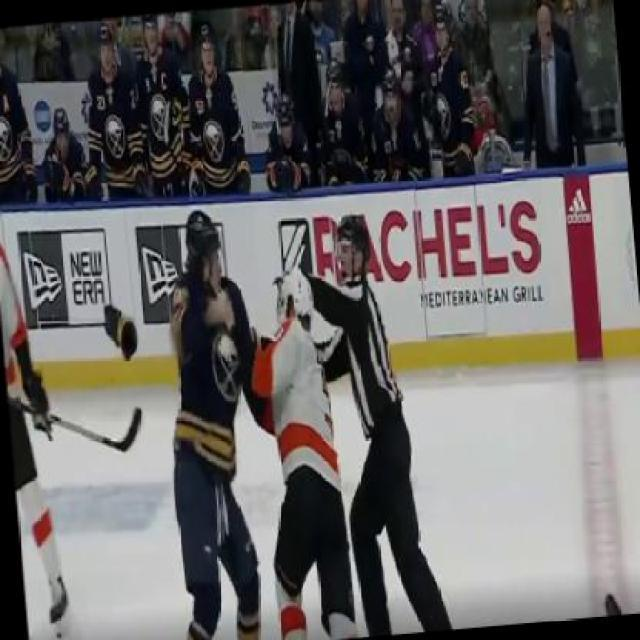fight: (155, 202, 360, 638)
